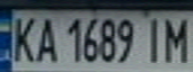1: (60, 15, 84, 63)
6: (78, 15, 100, 63)
8: (96, 15, 121, 64)
9: (115, 15, 142, 64)
A: (30, 13, 60, 64)
I: (139, 15, 169, 64)
K: (6, 12, 39, 63)
M: (160, 14, 193, 63)
